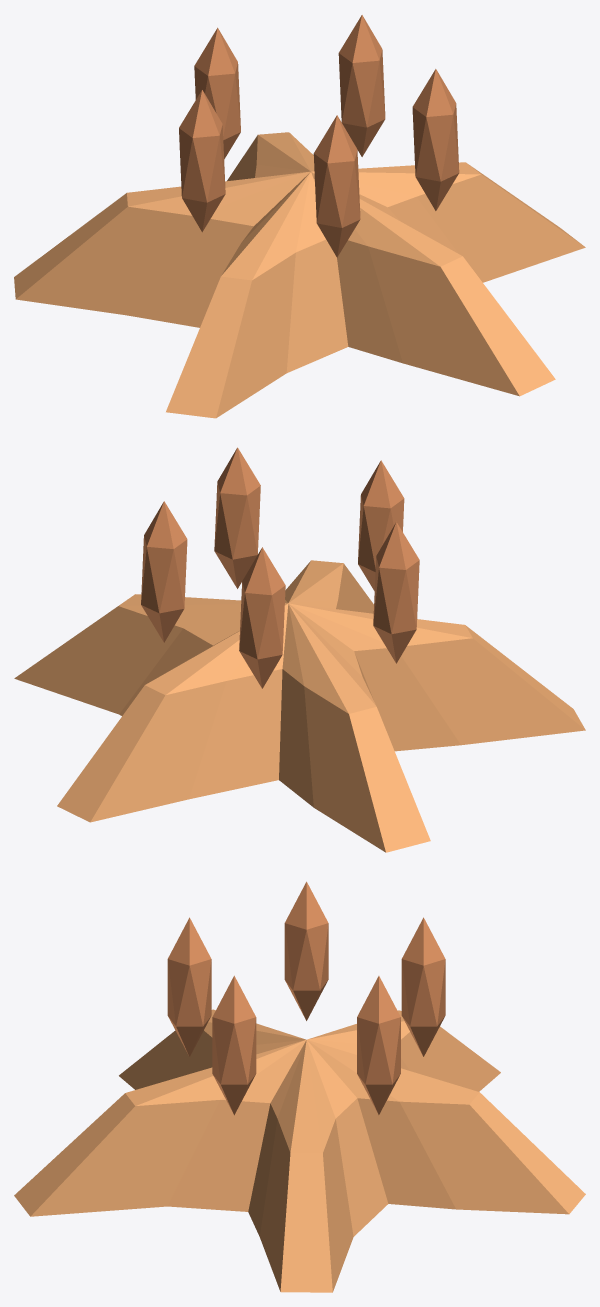
The model's file is 45-Arte3D_estrella_mar.glb.
The picture shows the model from 3 angles, top to bottom: view 1: azimuth 30°, elevation 25°; view 2: azimuth 150°, elevation 25°; view 3: azimuth 270°, elevation 25°; orthographic projection. The views are drawn at different scales.
Parts seen in each view (by area): view 1: SM_Estrella_M_EstrellaMar, SM_Estrella_M_EstrellaMar_Txt; view 2: SM_Estrella_M_EstrellaMar, SM_Estrella_M_EstrellaMar_Txt; view 3: SM_Estrella_M_EstrellaMar, SM_Estrella_M_EstrellaMar_Txt.
Part boxes in pixels (x1,y1,x2,y2): SM_Estrella_M_EstrellaMar: [14, 132, 585, 418]; SM_Estrella_M_EstrellaMar_Txt: [179, 15, 459, 257]; SM_Estrella_M_EstrellaMar: [14, 560, 585, 852]; SM_Estrella_M_EstrellaMar_Txt: [141, 447, 419, 688]; SM_Estrella_M_EstrellaMar: [14, 1009, 585, 1292]; SM_Estrella_M_EstrellaMar_Txt: [167, 881, 445, 1115].
Size of the model in its own units: 0.4683 by 0.2202 by 0.4882.
